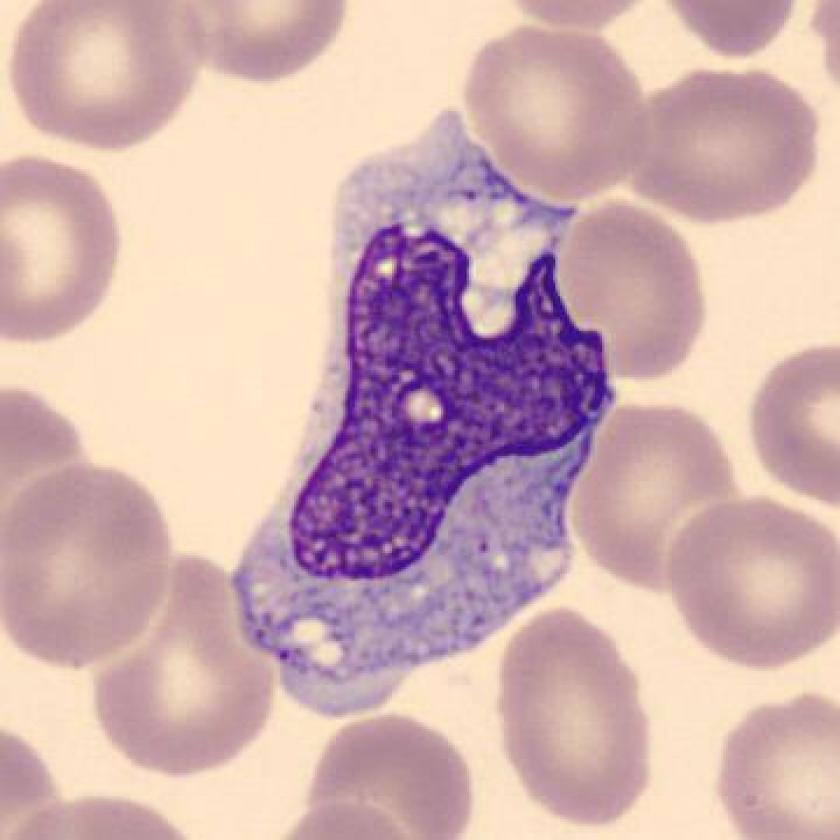monocyte: (218, 87, 638, 737)
